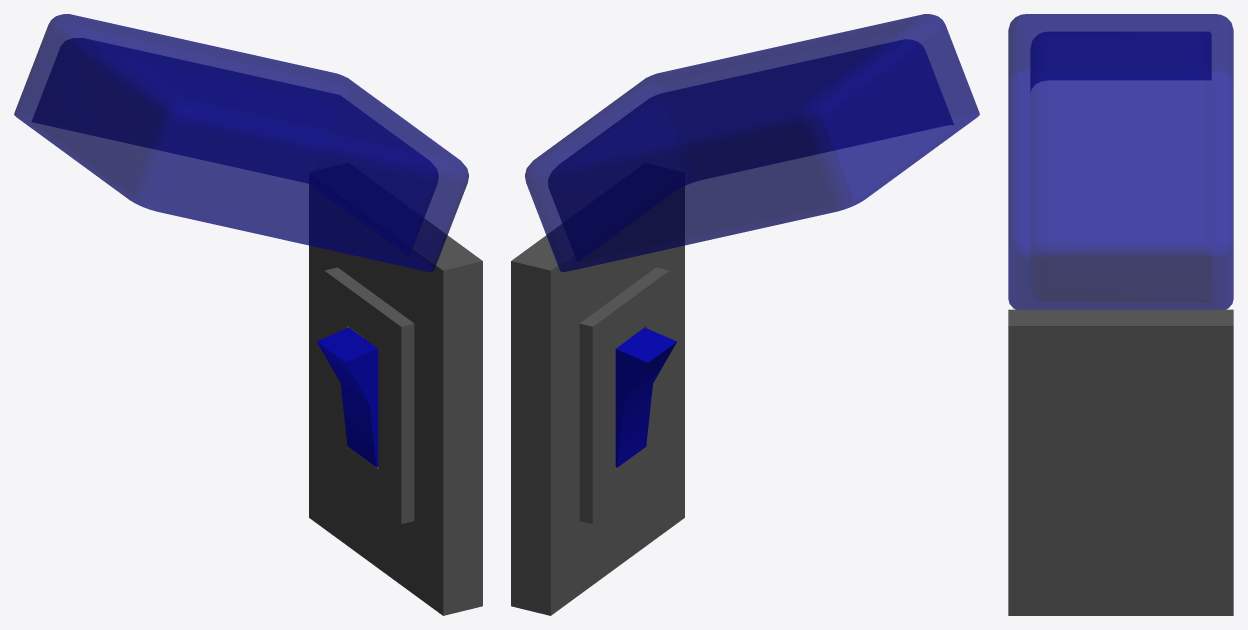
File: Apagador_Azul.fbx
The picture shows the model from 3 angles, left to right: view 1: azimuth 30°, elevation 25°; view 2: azimuth 150°, elevation 25°; view 3: azimuth 270°, elevation 25°; orthographic projection. The views are drawn at different scales.
Visible parts, largest first — view 1: Tapa_Interruptor1, Placa_Interruptor1, Switch1; view 2: Tapa_Interruptor1, Placa_Interruptor1, Switch1; view 3: Placa_Interruptor1, Tapa_Interruptor1.
Part boxes in pixels (x1,y1,x2,y2): Tapa_Interruptor1: (14,14,468,271); Placa_Interruptor1: (309,184,482,615); Switch1: (316,327,378,467); Tapa_Interruptor1: (525,14,979,271); Placa_Interruptor1: (511,186,684,615); Switch1: (615,327,676,467); Placa_Interruptor1: (1008,309,1233,615); Tapa_Interruptor1: (1008,14,1233,309).
Bounding box in the file's own units: 0.3841 × 0.6125 × 0.2608.
